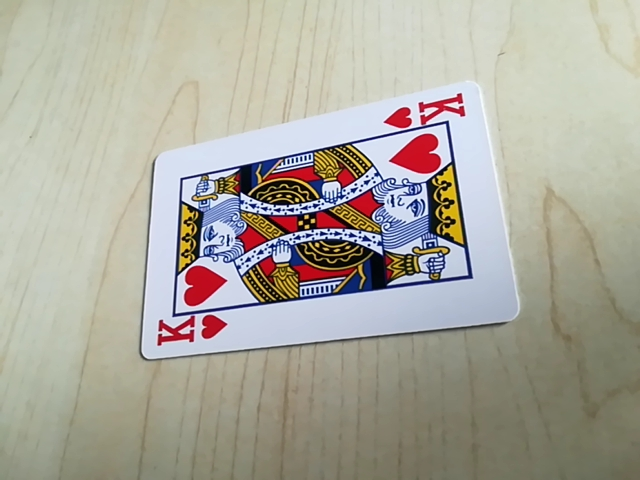hx k: (381, 93, 471, 132), (152, 310, 228, 353)
